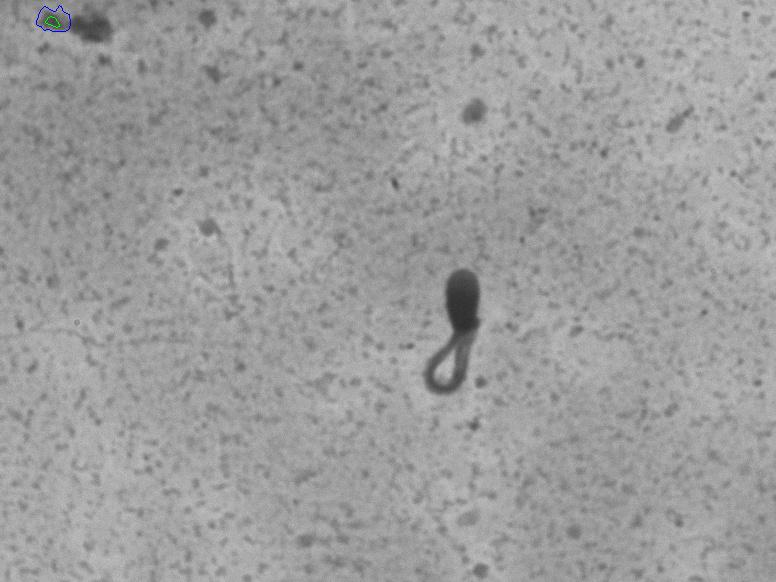Abnormal: (380, 233, 536, 430)
